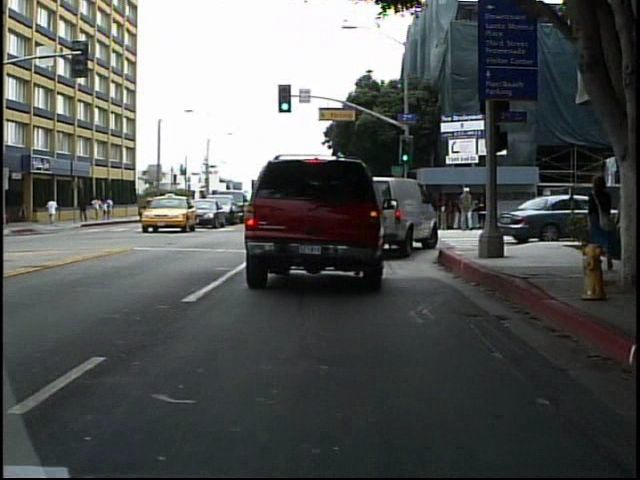person: (585, 168, 623, 270), (458, 184, 476, 233), (46, 195, 61, 228)
